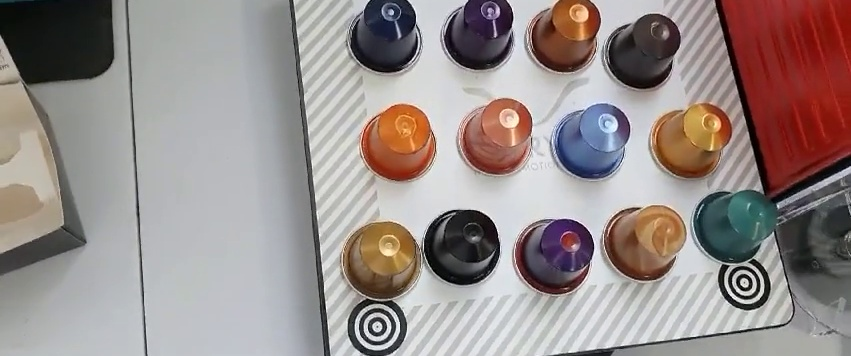capsule_1: (342, 1, 424, 75)
capsule_10: (422, 207, 503, 283)
capsule_11: (516, 218, 593, 295)
capsule_12: (597, 204, 686, 281)
capsule_13: (690, 188, 779, 263)
capsule_2: (437, 1, 519, 75)
capsule_3: (520, 1, 600, 77)
capsule_4: (602, 13, 679, 90)
capsule_5: (360, 102, 439, 183)
capsule_6: (454, 97, 535, 179)
capsule_7: (549, 102, 628, 183)
capsule_8: (649, 103, 731, 179)
capsule_9: (341, 221, 420, 302)
